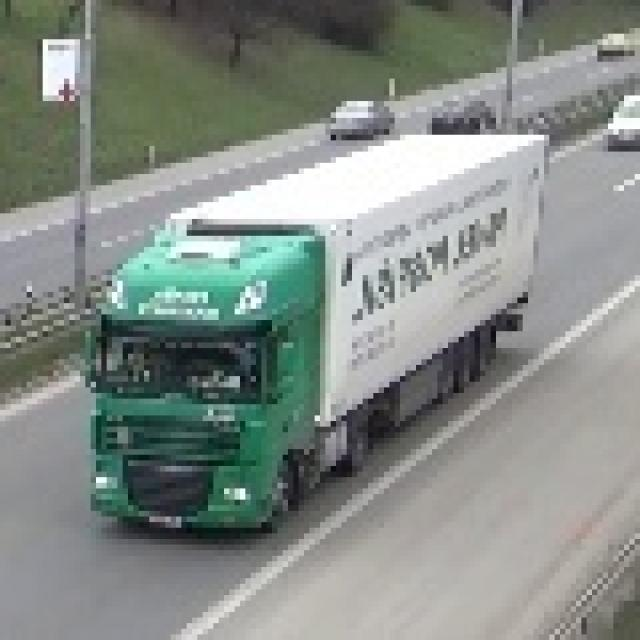TRUCK: (80, 143, 542, 543)
